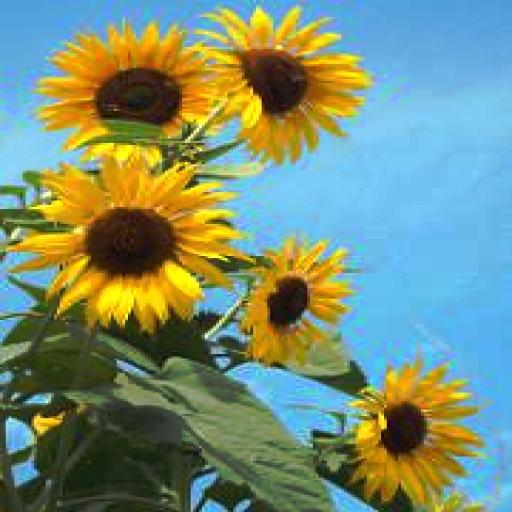sunflower: (12, 154, 248, 332), (204, 6, 372, 160), (40, 24, 219, 147), (347, 360, 484, 506), (247, 234, 347, 376)
